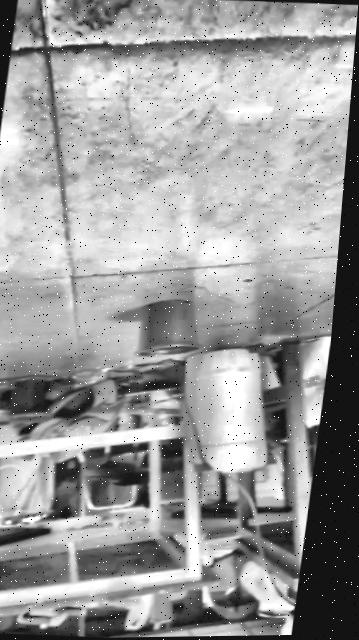pot: (133, 298, 207, 358)
